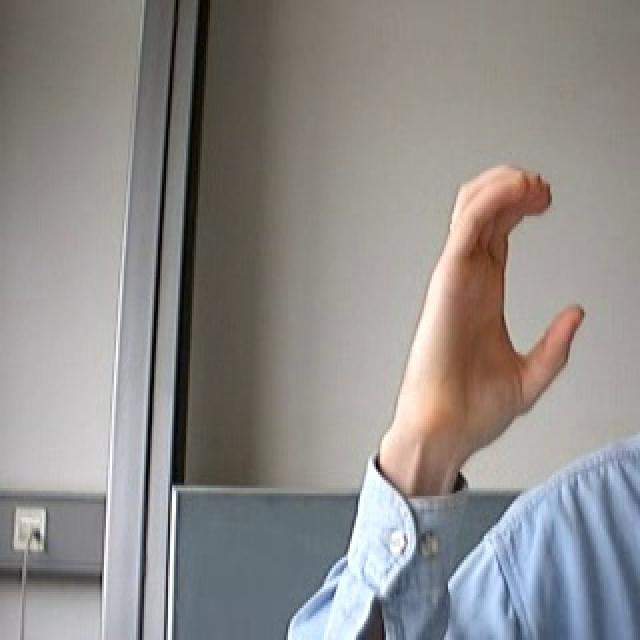C: (384, 159, 589, 461)
